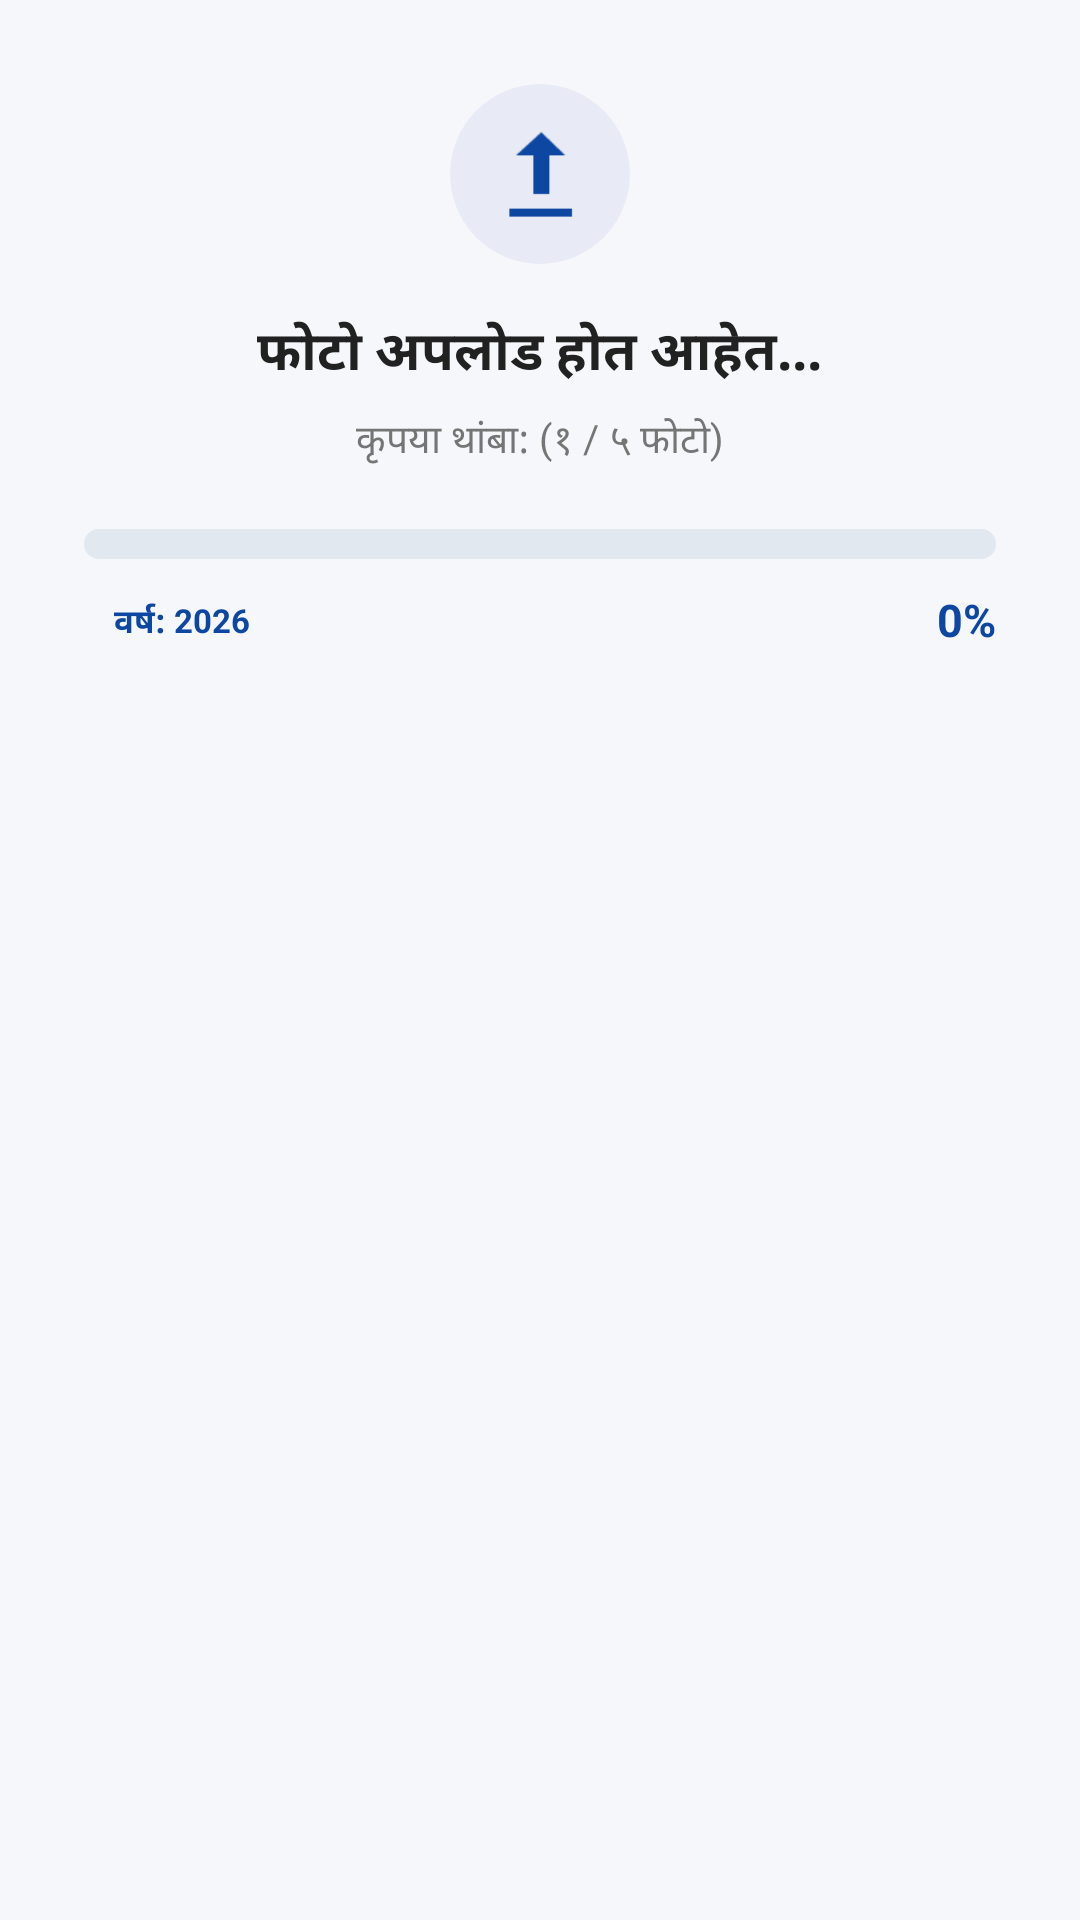

Icon click points for this 1080px x 1920px phone screenshot, format (x,y):
upload: (541,174)
